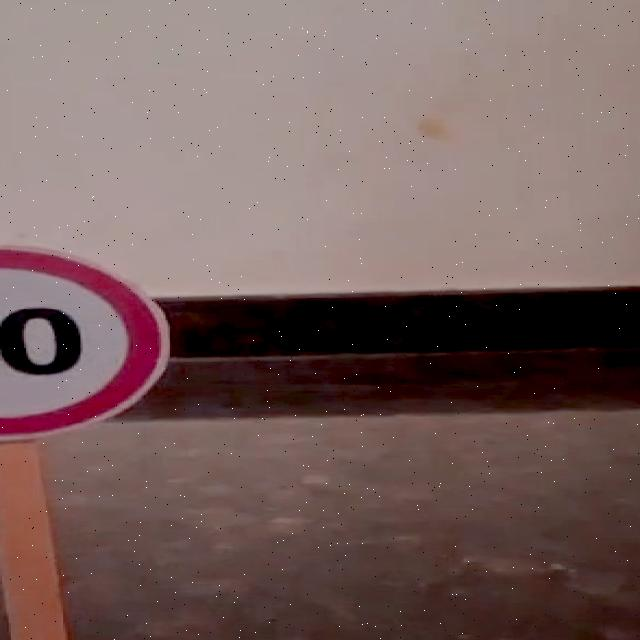Speed60: (0, 236, 194, 448)
